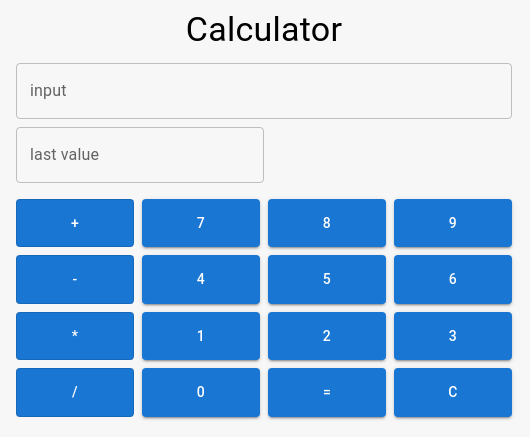
Test: App Component › performs multiplication
Input "5"
Click the button "5": (327, 280) [268,255,386,304]
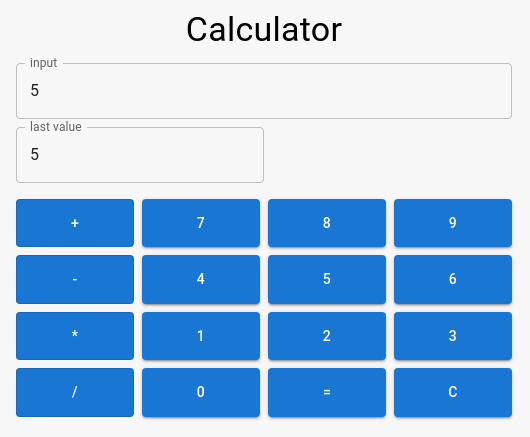
Press multiplication operator (assuming accessible name "multiply")
Click the button named "multiply": (75, 336) [16,312,134,360]
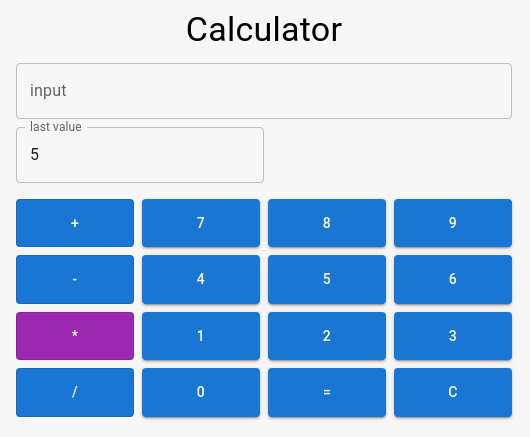
Input "6"
Click the button "6": (453, 280) [394,255,512,304]
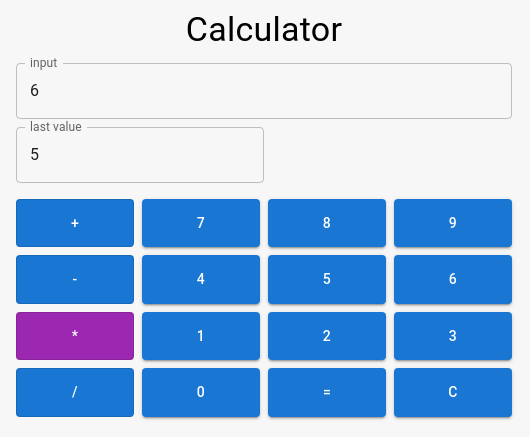
Click the button "=": (327, 393) [268,368,386,417]
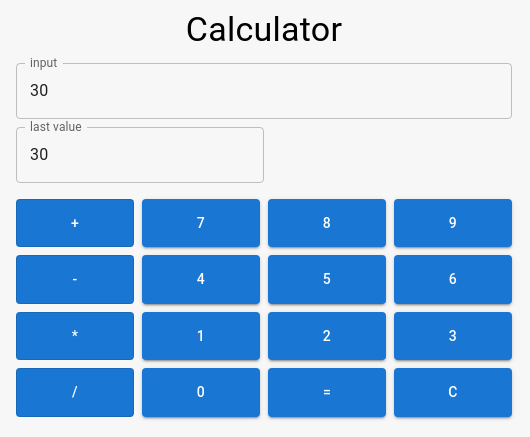
Now the field labelled "input" holds "30", box [16,63,512,119]
